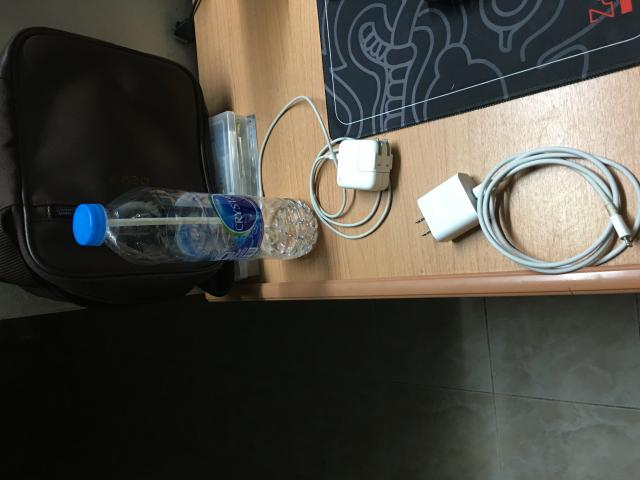bottle: (72, 188, 318, 265)
wire: (418, 148, 640, 274), (310, 138, 392, 239)
